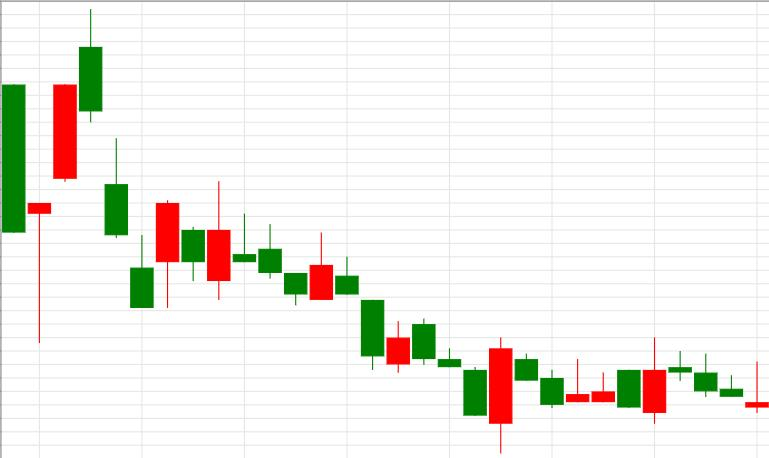bullish_engulfing_rise: (233, 214, 512, 454)
